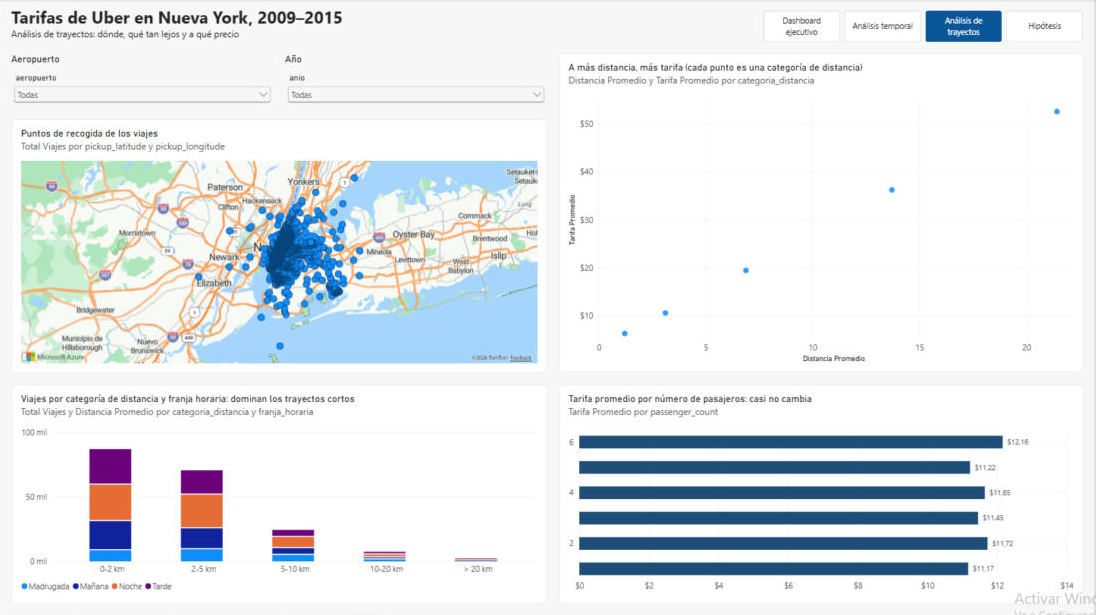

Layout of this report page (visuals, bound fields, positions):
{"tool":"powerbi","page":{"name":"Análisis de trayectos","canvas":[1920,1080],"ordinal":2},"visuals":[{"type":"textbox","box":[20,10,1300,75],"z":1000},{"type":"pageNavigator","box":[1340,20,560,55],"z":2000},{"type":"slicer","title":"Aeropuerto","fields":{"Values":["fact_viajes.aeropuerto"]},"box":[20,95,460,100],"z":3000},{"type":"slicer","title":"Año","fields":{"Values":["dim_fecha.anio"]},"box":[500,95,460,100],"z":4000},{"type":"azureMap","title":"Puntos de recogida de los viajes","fields":{"Size":["_Medidas.Total Viajes"],"X":["fact_viajes.pickup_longitude"],"Y":["fact_viajes.pickup_latitude"]},"box":[20,210,940,445],"z":5000},{"type":"scatterChart","title":"A más distancia, más tarifa (cada punto es una categoría de distancia)","fields":{"Category":["fact_viajes.categoria_distancia"],"X":["_Medidas.Distancia Promedio"],"Y":["_Medidas.Tarifa Promedio"]},"box":[980,95,920,560],"z":6000},{"type":"columnChart","title":"Viajes por categoría de distancia y franja horaria: dominan los trayectos cortos","fields":{"Category":["fact_viajes.categoria_distancia"],"Series":["dim_hora.franja_horaria"],"Y":["_Medidas.Total Viajes"]},"box":[20,675,940,385],"z":7000},{"type":"clusteredBarChart","title":"Tarifa promedio por número de pasajeros: casi no cambia","fields":{"Category":["fact_viajes.passenger_count"],"Y":["_Medidas.Tarifa Promedio"]},"box":[980,675,920,385],"z":8000}]}

Visuals, with their boxes on the page's 1920x1080 design canvas (x1, y1, x2, y2). These are canvas units, not pixel positions in the 1096x615 screenshot, which may show the page scaled, cropped or inside an application window:
textbox: x1=20, y1=10, x2=1320, y2=85
pageNavigator: x1=1340, y1=20, x2=1900, y2=75
"Aeropuerto" slicer: x1=20, y1=95, x2=480, y2=195
"Año" slicer: x1=500, y1=95, x2=960, y2=195
"Puntos de recogida de los viajes" azureMap: x1=20, y1=210, x2=960, y2=655
"A más distancia, más tarifa (cada punto es una categoría de distancia)" scatterChart: x1=980, y1=95, x2=1900, y2=655
"Viajes por categoría de distancia y franja horaria: dominan los trayectos cortos" columnChart: x1=20, y1=675, x2=960, y2=1060
"Tarifa promedio por número de pasajeros: casi no cambia" clusteredBarChart: x1=980, y1=675, x2=1900, y2=1060
